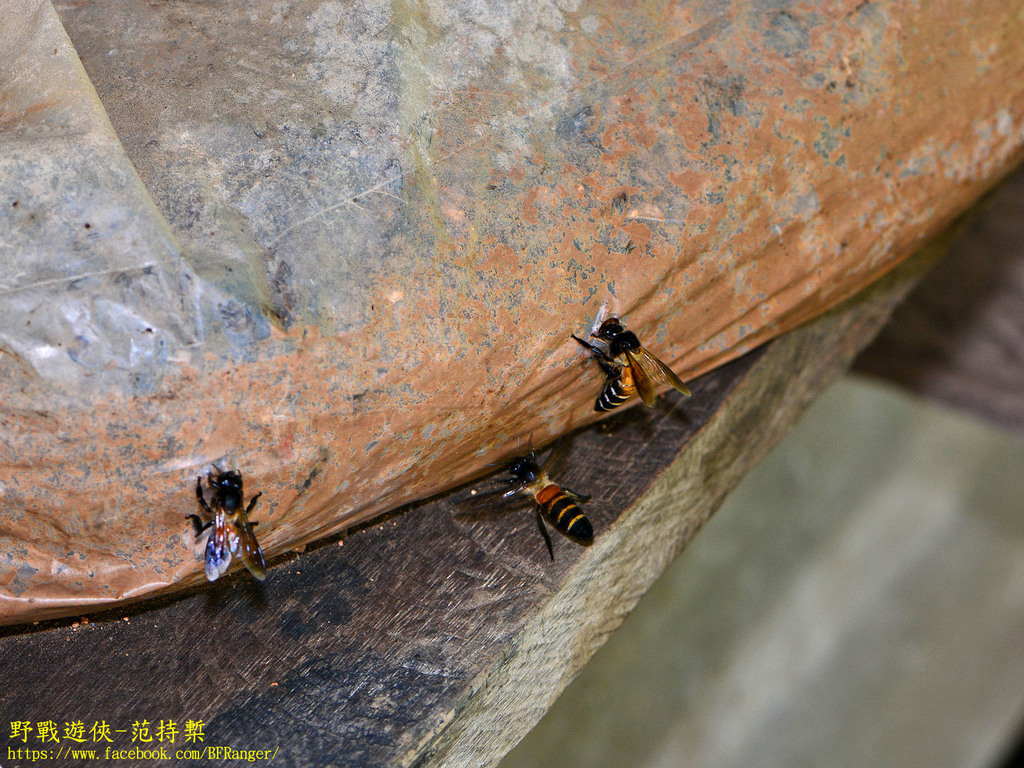honeybee: (472, 431, 596, 562), (575, 316, 692, 410), (187, 465, 268, 583)
